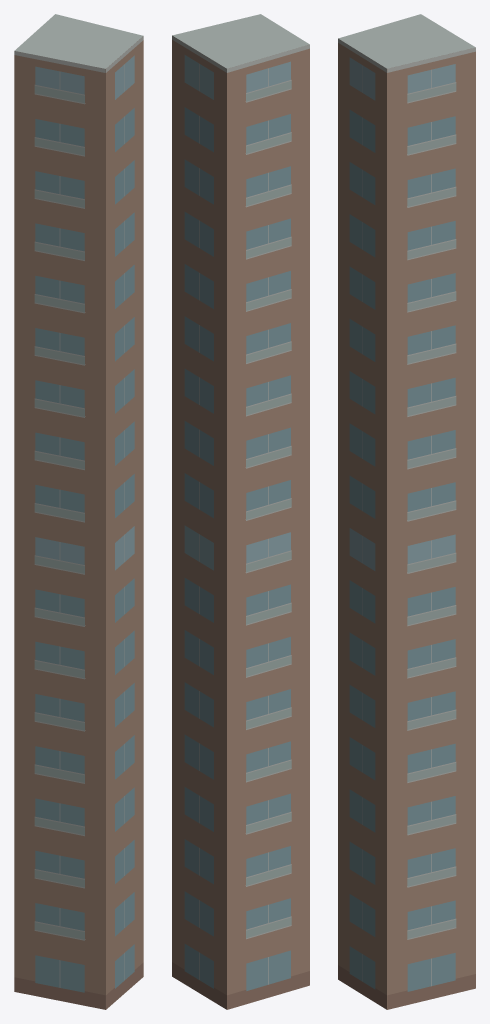
Rendered from survey-upis-32503565.glb.
3 views of the same model, side by side, from view 1: azimuth 90°, elevation 25°; view 2: azimuth 150°, elevation 25°; view 3: azimuth 330°, elevation 25° (orthographic).
Visible parts, largest first — view 1: survey-upis-32503565.tmp; view 2: survey-upis-32503565.tmp; view 3: survey-upis-32503565.tmp.
Part boxes in pixels (x1,y1,x2,y2): survey-upis-32503565.tmp: (14, 14, 143, 1009); survey-upis-32503565.tmp: (172, 14, 309, 1009); survey-upis-32503565.tmp: (338, 14, 475, 1009).
Bounding box in the file's own units: 6.88 × 54.9 × 6.84.
